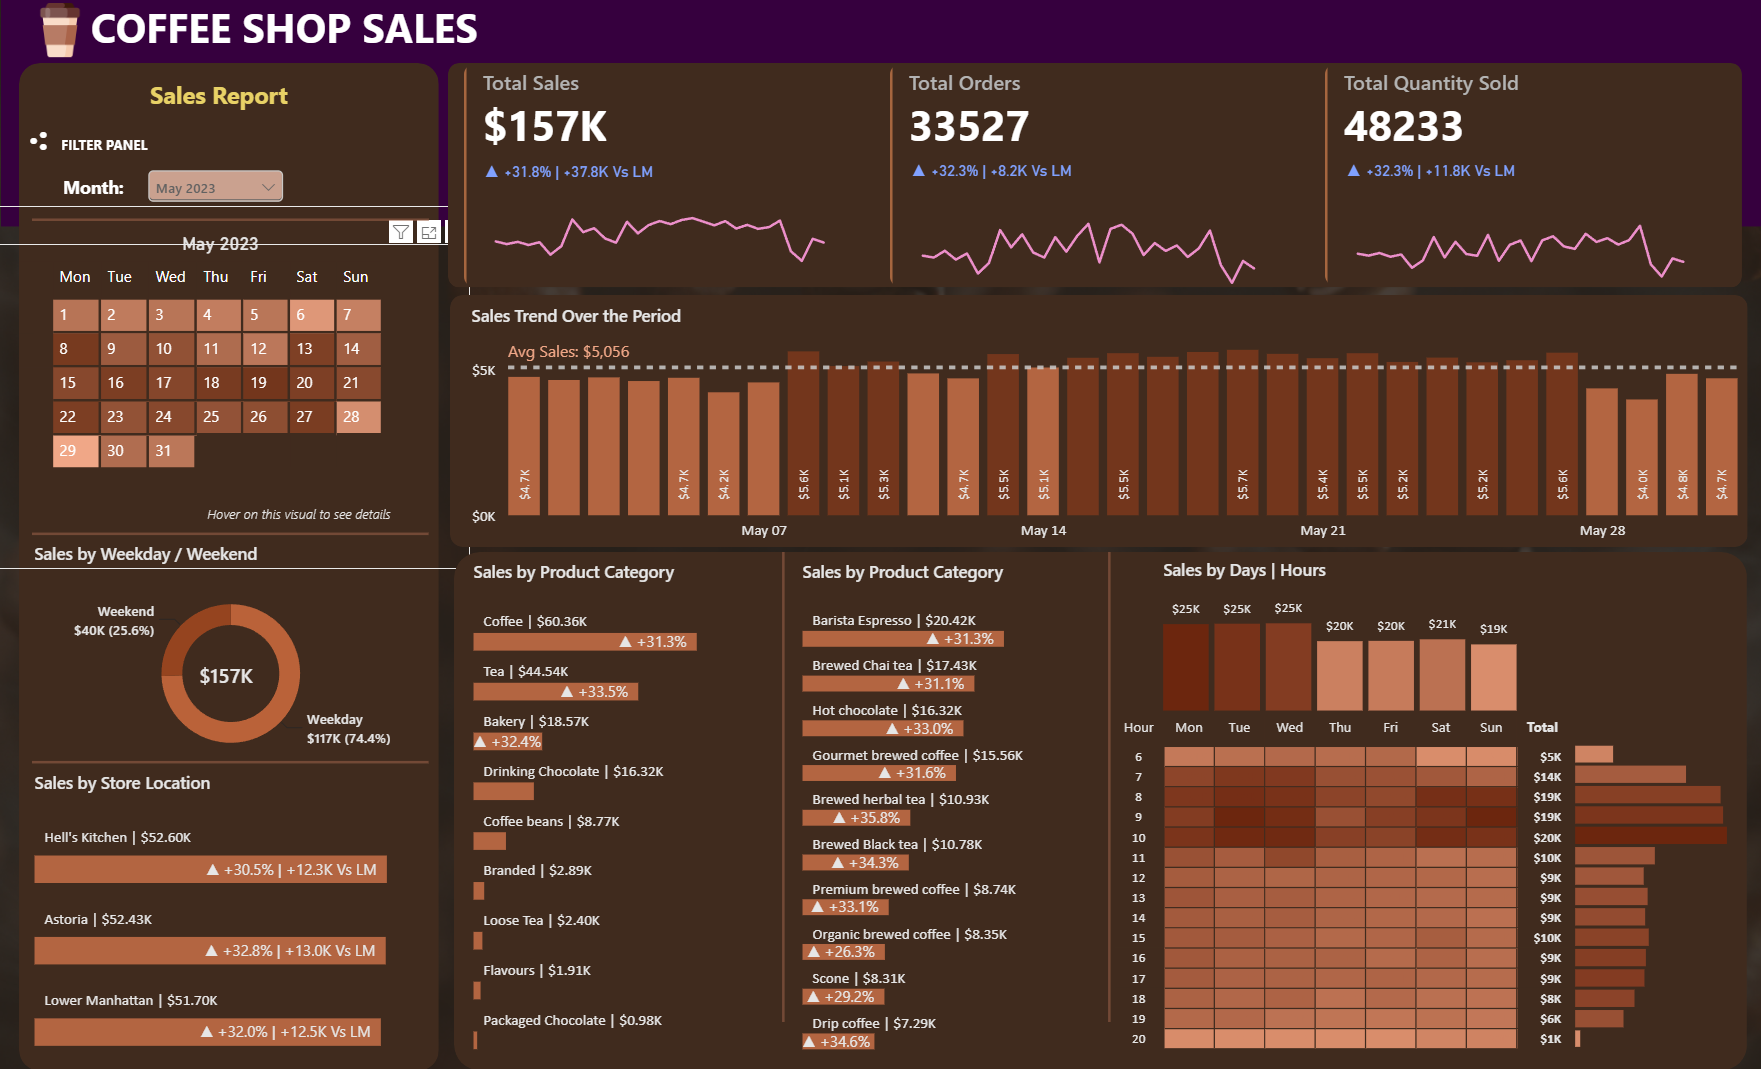

This screenshot's page, from the dashboard's own definition file:
{"tool":"powerbi","page":{"name":"Page 1","canvas":[1400,850],"ordinal":0},"visuals":[{"type":"shape","box":[1.3,0.6,1397.8,179.7],"z":0},{"type":"shape","box":[15.6,51.1,333.3,800],"z":1000},{"type":"shape","box":[356.7,51.1,1026.9,178.2],"z":1000,"group":"g6"},{"type":"cardVisual","fields":{"Data":["Transactions.Total Sales"]},"box":[369,51.6,312,177.8],"z":1000,"group":"g3"},{"type":"textbox","box":[72.6,0,339.3,56.1],"z":2000},{"type":"lineChart","fields":{"Category":["Date Table.Date.Variation.Date Hierarchy.Year","Date Table.Date.Variation.Date Hierarchy.Quarter","Date Table.Date.Variation.Date Hierarchy.Month","Date Table.Date.Variation.Date Hierarchy.Day"],"Y":["Transactions.Total Sales"]},"box":[368.5,114.9,312.2,128.9],"z":3000,"group":"g3"},{"type":"slicer","fields":{"Values":["Date Table.Month Year"]},"box":[113.2,131,116.8,44.3],"z":3000},{"type":"cardVisual","fields":{"Data":["Transactions.Total Orders"]},"box":[707,51.6,314.7,177.8],"z":4000,"group":"g2"},{"type":"cardVisual","fields":{"Data":["Transactions.Total Quantity Sold"]},"box":[1052.7,51.6,310.2,176.9],"z":4000,"group":"g4"},{"type":"group","id":"g1","title":"Group 4","box":[0,164.4,373.7,288.1],"z":4000},{"type":"group","id":"g2","title":"Group 1","box":[707,51.6,315,191.7],"z":5000,"group":"g9"},{"type":"shape","box":[26.1,397.1,314.8,55.3],"z":5000},{"type":"group","id":"g3","title":"Group 2","box":[368.5,51.6,312.2,191.7],"z":6000,"group":"g9"},{"type":"lineChart","fields":{"Category":["Date Table.Date.Variation.Date Hierarchy.Year","Date Table.Date.Variation.Date Hierarchy.Quarter","Date Table.Date.Variation.Date Hierarchy.Month","Date Table.Date.Variation.Date Hierarchy.Day"],"Y":["Transactions.Total Quantity Sold"]},"box":[1052.7,114.1,310.4,128.2],"z":6000,"group":"g4"},{"type":"lineChart","fields":{"Category":["Date Table.Date.Variation.Date Hierarchy.Year","Date Table.Date.Variation.Date Hierarchy.Quarter","Date Table.Date.Variation.Date Hierarchy.Month","Date Table.Date.Variation.Date Hierarchy.Day"],"Y":["Transactions.Total Orders"]},"box":[707,114.5,315,128.9],"z":6000,"group":"g2"},{"type":"shape","box":[25.8,147.9,315.4,55.1],"z":6000},{"type":"group","id":"g4","title":"Group 1","box":[1052.7,51.6,310.4,190.7],"z":7000,"group":"g9"},{"type":"shape","box":[26.1,578.3,314.8,54.3],"z":7000},{"type":"pivotTable","fields":{"Columns":["Date Table.Day Name"],"Rows":["Date Table.Week Number"],"Values":["Min(Date Table.Day Number)"]},"box":[0,194.4,373.7,258.1],"z":8000,"group":"g7"},{"type":"clusteredBarChart","title":"Sales by Store Location","fields":{"Category":["Transactions.store_location"],"Y":["Transactions.Placeholder","Transactions.Total Sales"]},"box":[26.4,611.5,323,225.3],"z":8000},{"type":"cardVisual","fields":{"Data":["Min(Date Table.Month Year)"]},"box":[129,164.4,108,59.9],"z":9000,"group":"g1"},{"type":"group","id":"g5","title":"Group 5","box":[11.9,417.6,344.1,204.7],"z":9000},{"type":"group","id":"g6","title":"Group 6","box":[356.7,51.1,1027.8,192.2],"z":10000},{"type":"cardVisual","fields":{"Data":["Transactions.Foot Note"]},"box":[149.1,384.9,211.2,47.4],"z":10000,"group":"g7"},{"type":"group","id":"g7","title":"Group 3","box":[0,194.4,373.7,258.1],"z":10001,"group":"g1"},{"type":"group","id":"g8","title":"Group 7","box":[357.6,235.1,1030.3,200],"z":11000},{"type":"donutChart","title":"Sales by Weekday / Weekend","fields":{"Category":["Date Table.Weekday / Weekend"],"Y":["Transactions.Total Sales"]},"box":[11.9,417.6,344.1,204.7],"z":11000,"group":"g5"},{"type":"shape","box":[360.9,439.1,1026.4,411.5],"z":12000},{"type":"cardVisual","fields":{"Data":["Transactions.Total Sales"]},"box":[142.5,505.6,87.9,60.9],"z":12000,"group":"g5"},{"type":"clusteredBarChart","title":"Sales by Product Category","fields":{"Category":["Transactions.product_category"],"Y":["Transactions.Placeholder","Transactions.Total Sales"]},"box":[374.6,444,238.8,392.5],"z":13000},{"type":"shape","box":[357.6,235.1,1029.9,200],"z":14000,"group":"g8"},{"type":"shape","box":[588.1,438.6,68.8,373.2],"z":14000},{"type":"columnChart","title":"Sales Trend Over the Period","fields":{"Category":["Transactions.transaction_date"],"Y":["Transactions.Total Sales"]},"box":[373,240.8,1014.9,194.3],"z":15000,"group":"g8"},{"type":"shape","box":[847.1,438.6,68.8,373.2],"z":15000},{"type":"clusteredBarChart","title":"Sales by Product Category","fields":{"Category":["Transactions.product_type"],"Y":["Transactions.Placeholder","Transactions.Total Sales"]},"box":[635.8,444,238.8,392.5],"z":16000},{"type":"pivotTable","fields":{"Columns":["Date Table.Day Name"],"Rows":["Transactions.Hour"],"Values":["Transactions.Total Sales"]},"box":[869,566.7,520.7,283.9],"z":17000},{"type":"clusteredBarChart","fields":{"Category":["Transactions.Hour"],"Y":["Transactions.Total Sales"]},"box":[1234.7,571,138.6,277.3],"z":18000},{"type":"columnChart","title":"Sales by Days | Hours","fields":{"Category":["Date Table.Day Name"],"Y":["Transactions.Total Sales"]},"box":[908.2,444,297,138.1],"z":19000},{"type":"textbox","box":[50.7,139.5,62.5,25.4],"z":19001},{"type":"textbox","box":[119.5,63.1,149.4,36.8],"z":19002},{"type":"textbox","box":[22,85.1,145.8,57.5],"z":19003},{"type":"image","box":[12.2,3.3,73.3,43.3],"z":19004},{"type":"group","id":"g9","title":"Group 8","box":[368.5,51.6,994.7,191.7],"z":19005,"group":"g6"}]}

Visuals, with their boxes in screenshot pixels (x1, y1, x2, y2), scaled from the page's 1400x850 canvas onto the 1761x1069 screenshot:
shape: bbox=(2, 1, 1760, 227)
shape: bbox=(20, 64, 439, 1068)
shape: bbox=(449, 64, 1740, 288)
cardVisual - Transactions.Total Sales: bbox=(464, 65, 857, 289)
textbox: bbox=(91, 0, 518, 71)
lineChart - Date Table.Date.Variation.Date Hierarchy.Year x Date Table.Date.Variation.Date Hierarchy.Quarter: bbox=(464, 145, 856, 307)
slicer - Date Table.Month Year: bbox=(142, 165, 289, 220)
cardVisual - Transactions.Total Orders: bbox=(889, 65, 1285, 289)
cardVisual - Transactions.Total Quantity Sold: bbox=(1324, 65, 1714, 287)
"Group 4" group: bbox=(0, 207, 470, 569)
"Group 1" group: bbox=(889, 65, 1286, 306)
shape: bbox=(33, 499, 429, 569)
"Group 2" group: bbox=(464, 65, 856, 306)
lineChart - Date Table.Date.Variation.Date Hierarchy.Year x Date Table.Date.Variation.Date Hierarchy.Quarter: bbox=(1324, 143, 1715, 305)
lineChart - Date Table.Date.Variation.Date Hierarchy.Year x Date Table.Date.Variation.Date Hierarchy.Quarter: bbox=(889, 144, 1286, 306)
shape: bbox=(32, 186, 429, 255)
"Group 1" group: bbox=(1324, 65, 1715, 305)
shape: bbox=(33, 727, 429, 796)
pivotTable - Date Table.Day Name x Date Table.Week Number: bbox=(0, 244, 470, 569)
"Sales by Store Location" clusteredBarChart: bbox=(33, 769, 439, 1052)
cardVisual - Min(Date Table.Month Year): bbox=(162, 207, 298, 282)
"Group 5" group: bbox=(15, 525, 448, 783)
"Group 6" group: bbox=(449, 64, 1742, 306)
cardVisual - Transactions.Foot Note: bbox=(188, 484, 453, 544)
"Group 3" group: bbox=(0, 244, 470, 569)
"Group 7" group: bbox=(450, 296, 1746, 547)
"Sales by Weekday / Weekend" donutChart: bbox=(15, 525, 448, 783)
shape: bbox=(454, 552, 1745, 1068)
cardVisual - Transactions.Total Sales: bbox=(179, 636, 290, 712)
"Sales by Product Category" clusteredBarChart: bbox=(471, 558, 772, 1052)
shape: bbox=(450, 296, 1745, 547)
shape: bbox=(740, 552, 826, 1021)
"Sales Trend Over the Period" columnChart: bbox=(469, 303, 1746, 547)
shape: bbox=(1066, 552, 1152, 1021)
"Sales by Product Category" clusteredBarChart: bbox=(800, 558, 1100, 1052)
pivotTable - Date Table.Day Name x Transactions.Hour: bbox=(1093, 713, 1748, 1068)
clusteredBarChart - Transactions.Hour x Transactions.Total Sales: bbox=(1553, 718, 1727, 1067)
"Sales by Days | Hours" columnChart: bbox=(1142, 558, 1516, 732)
textbox: bbox=(64, 175, 142, 207)
textbox: bbox=(150, 79, 338, 126)
textbox: bbox=(28, 107, 211, 179)
image: bbox=(15, 4, 108, 59)
"Group 8" group: bbox=(464, 65, 1715, 306)
